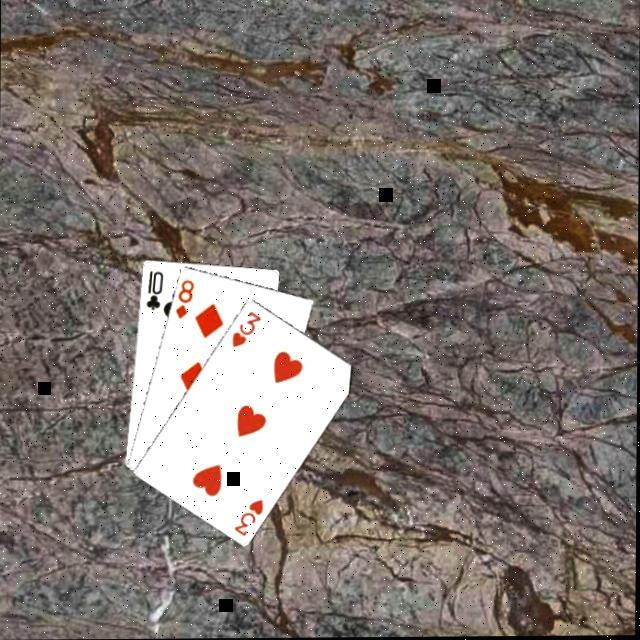10C: (144, 266, 167, 312)
3H: (232, 495, 268, 537), (230, 307, 265, 349)
8D: (174, 275, 198, 321)
